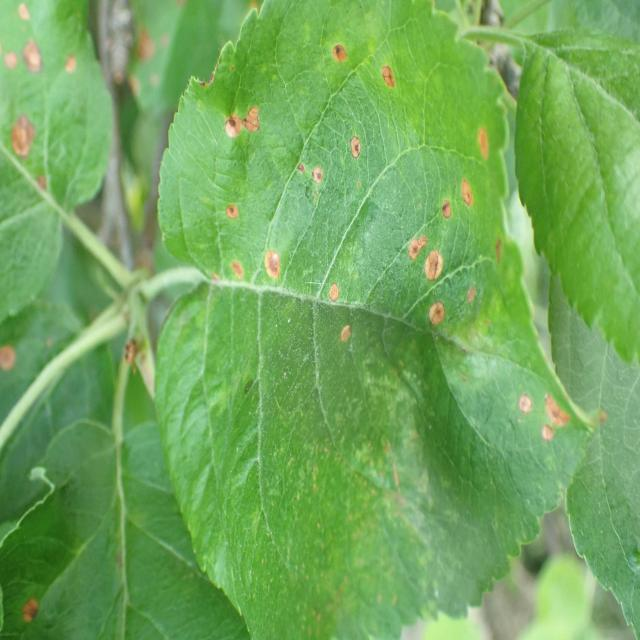frog-eye-leaf-spot: (154, 0, 594, 638), (0, 416, 252, 639), (0, 0, 113, 326)
